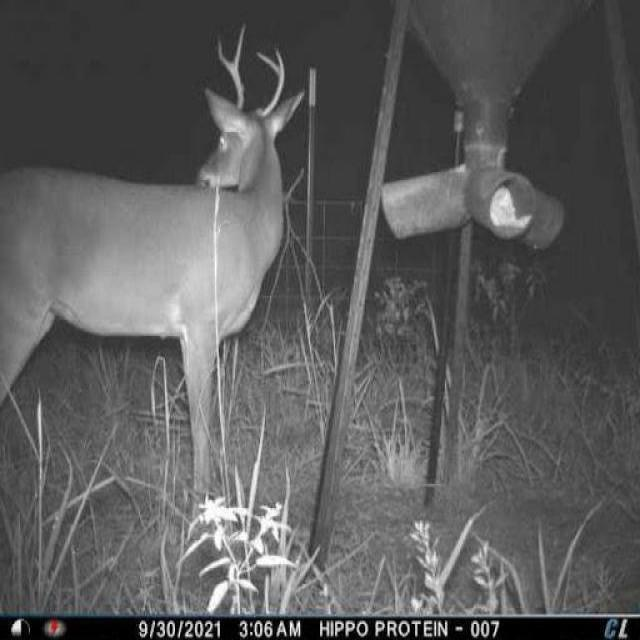deer: (0, 24, 312, 547)
